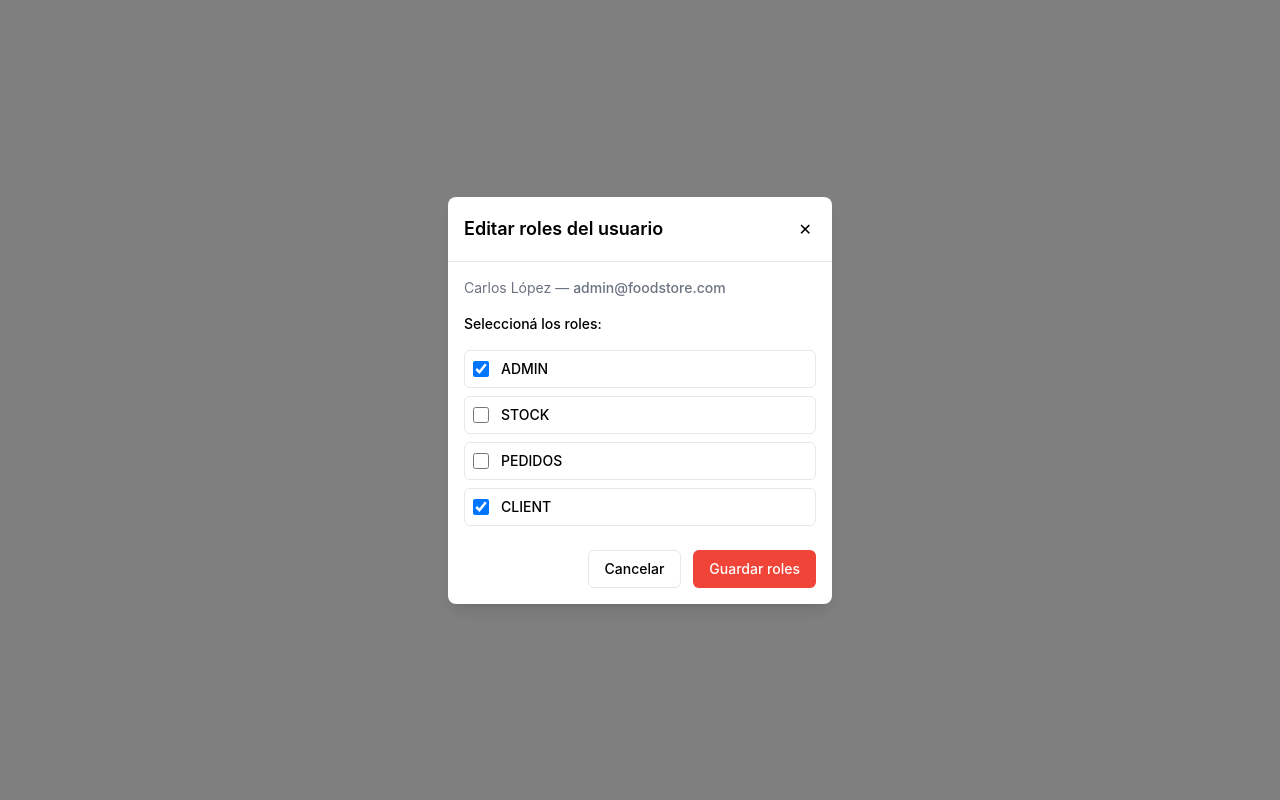
Test: EditUserRolesModal › shows LAST_ADMIN_PROTECTED error inline
Click the button "Guardar roles".
click(755, 568)  # box [693, 550, 816, 588]
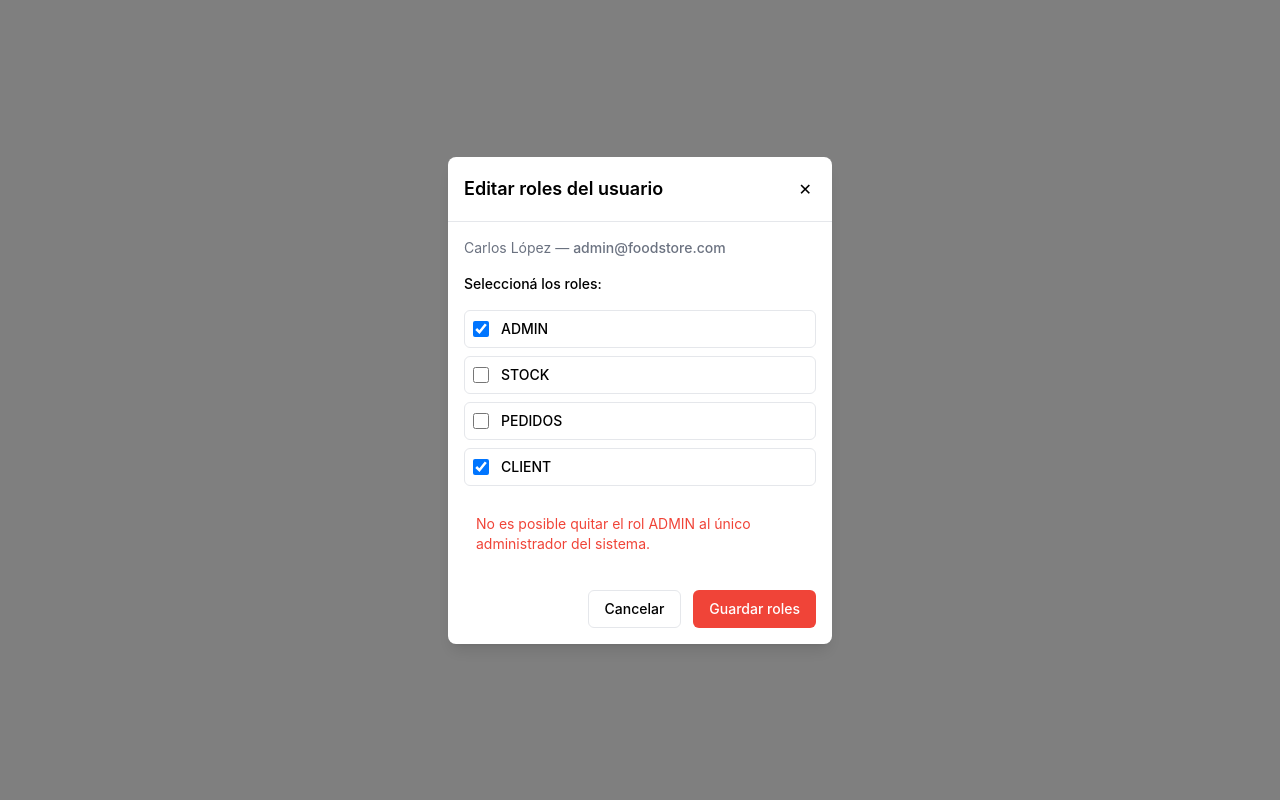
Expected: the text "No es posible quitar el rol ADMIN al único administrador del sistema." is shown, [476, 514, 751, 552]
